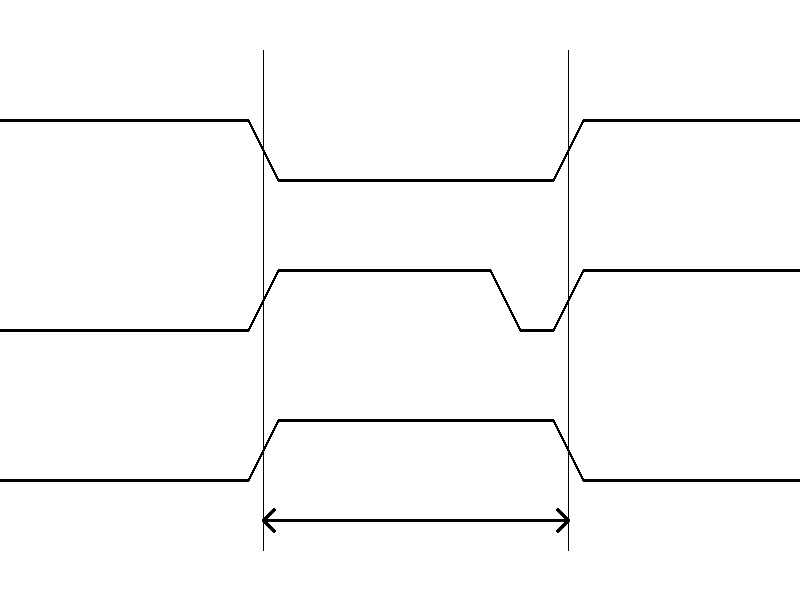double_arrow: (263, 505, 568, 535)
